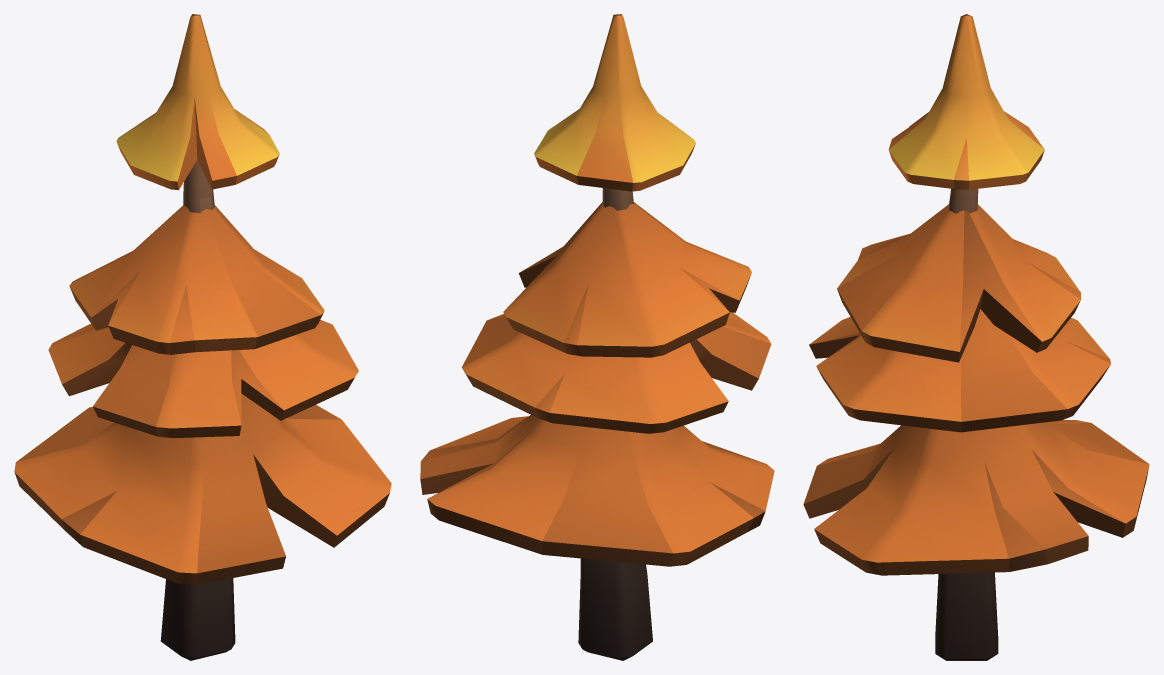
File: pine_tree_col2_08.fbx
The picture shows the model from 3 angles, left to right: view 1: azimuth 30°, elevation 25°; view 2: azimuth 150°, elevation 25°; view 3: azimuth 270°, elevation 25°; orthographic projection.
Parts seen in each view (by area): view 1: pine_tree_col2_08; view 2: pine_tree_col2_08; view 3: pine_tree_col2_08.
Boxes of the visible parts, bbox=[...] form: pine_tree_col2_08: bbox=[14, 14, 391, 660]; pine_tree_col2_08: bbox=[420, 14, 774, 660]; pine_tree_col2_08: bbox=[803, 14, 1149, 660].
Bounding box in the file's own units: 424 × 850 × 420.
Materials: 1 (1 with a texture image).
